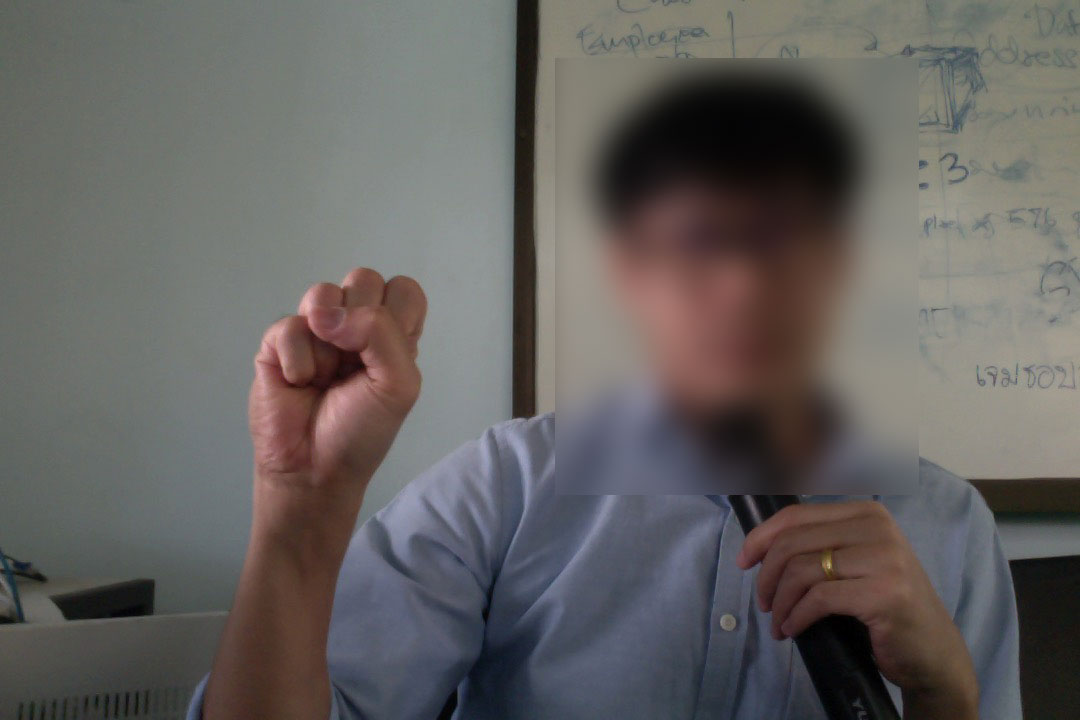sor: (237, 259, 439, 518)
